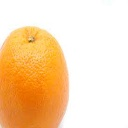orange: (0, 24, 69, 128)
